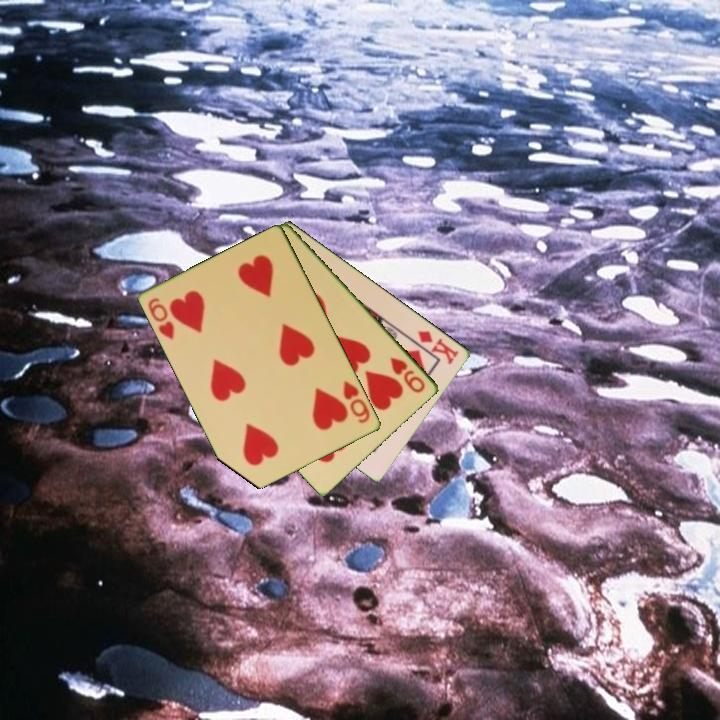6h: (340, 377, 373, 426), (145, 294, 178, 342)
9h: (387, 353, 428, 396)
Kd: (414, 327, 462, 368)
